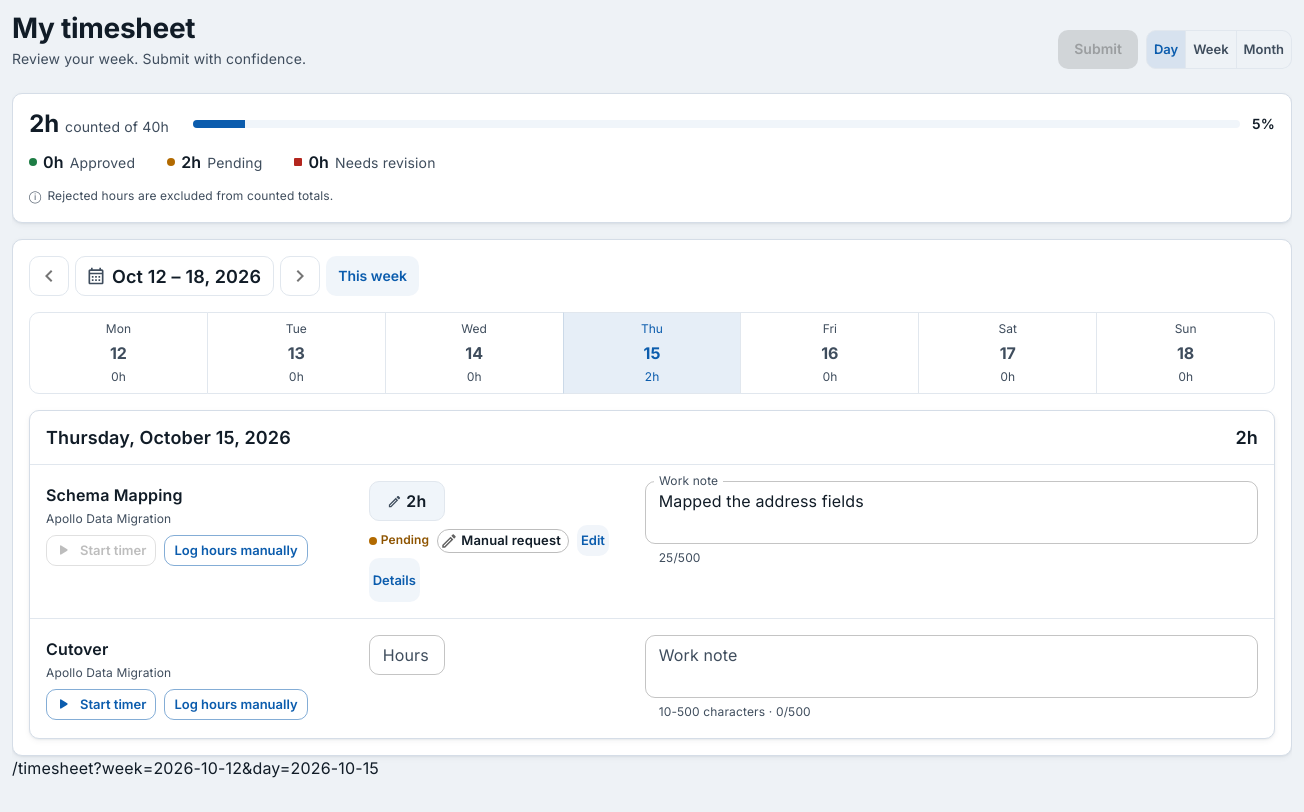
Test case: Start timer waits on today's manual hours › it is disabled with the tooltip on a milestone with today's manual entry; the other starts
Hover over the element showing "Start timer" below "Schema Mapping" at (101,550), box [46,535,156,566]
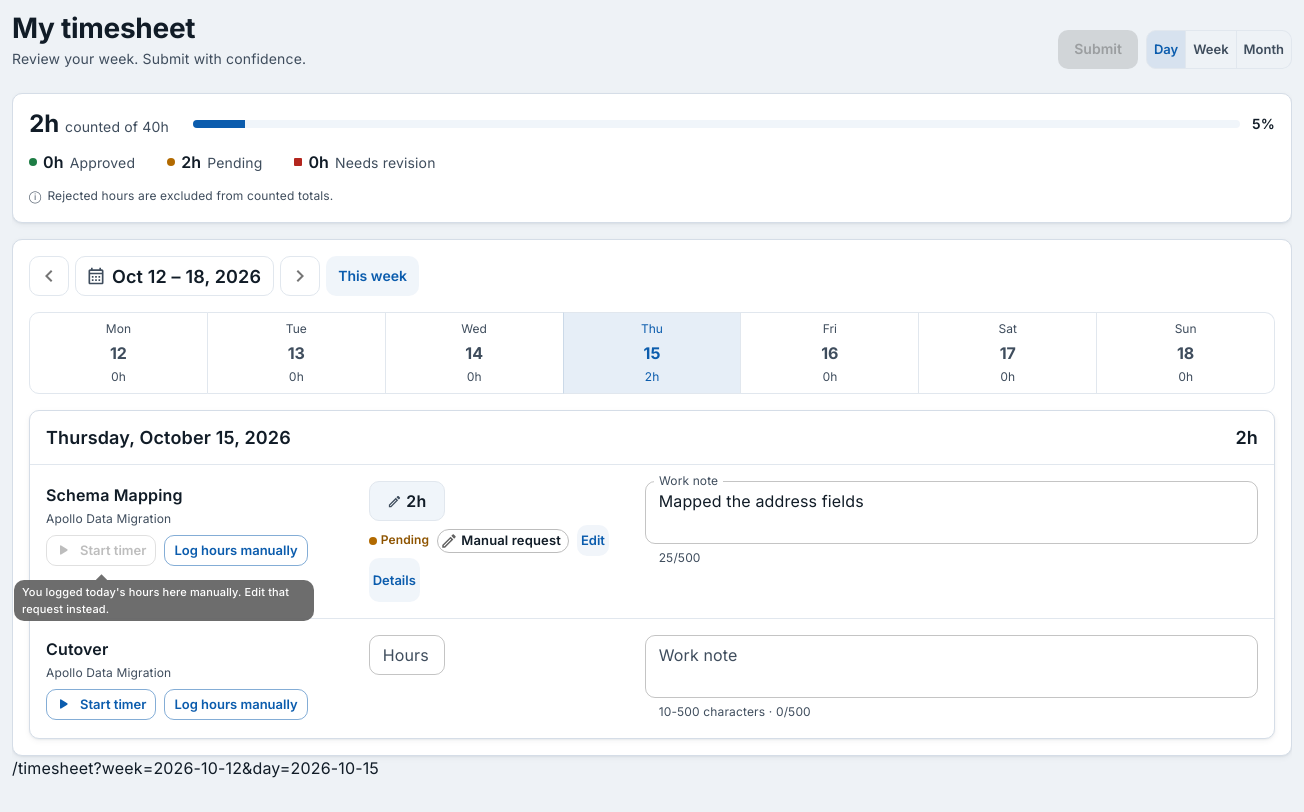
Expected: the button with aria-label "Start timer on Cutover" is enabled, [46,689,156,720]
Expected: the tooltip reads "You logged today's hours here manually. Edit that request instead.", [22,585,289,616]
